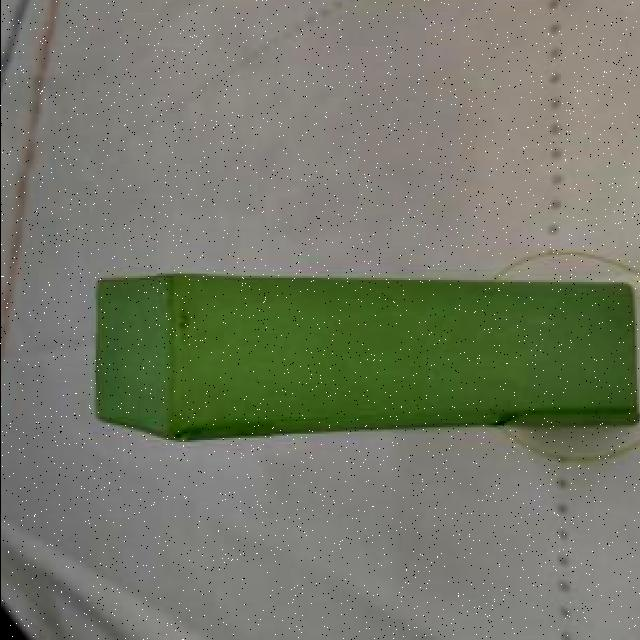greenbox: (88, 268, 634, 448)
